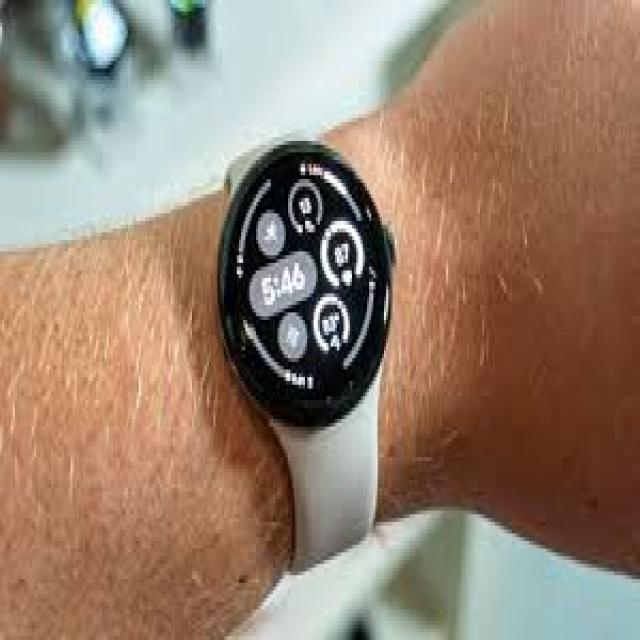objects: (218, 133, 393, 575)
